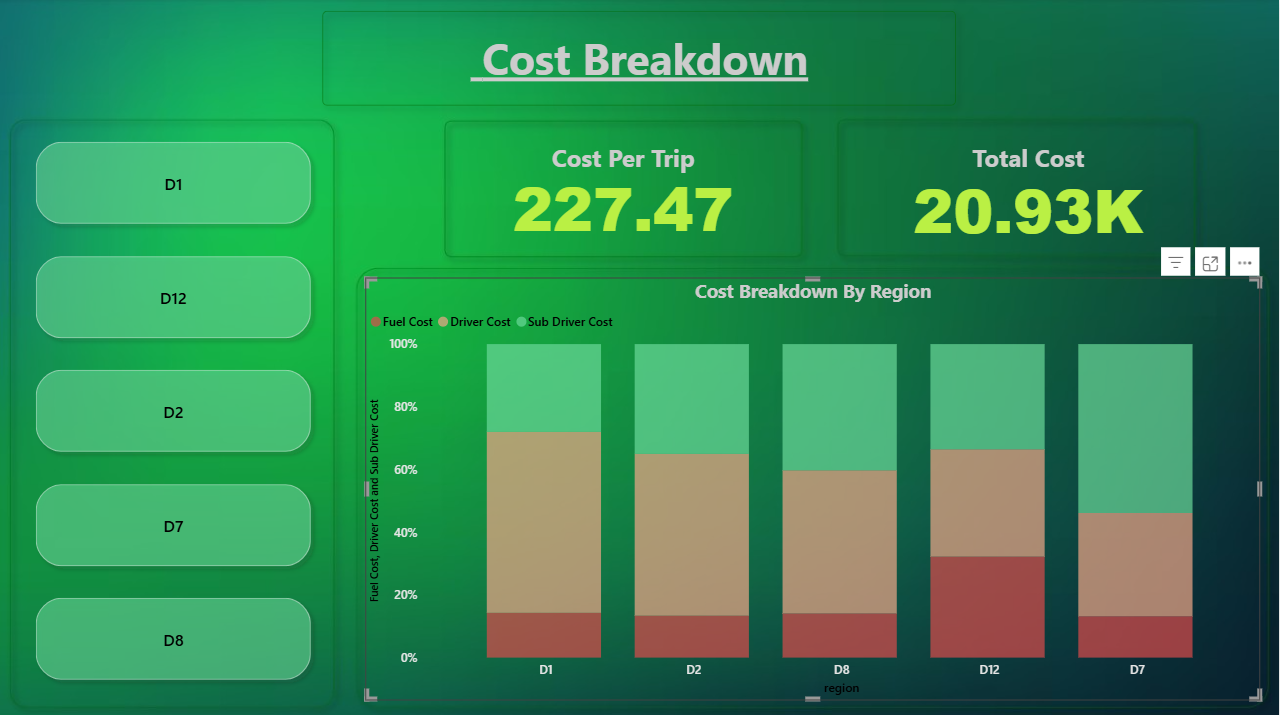

This screenshot's page, from the dashboard's own definition file:
{"tool":"powerbi","page":{"name":"Page 5","canvas":[1280,720],"ordinal":4},"visuals":[{"type":"advancedSlicerVisual","fields":{"Values":["ops v_routes_enriched_costs.region"]},"box":[19.6,125.2,309.2,575.5],"z":0},{"type":"card","title":"Cost Per Trip","fields":{"Values":["Date.Avg Cost / Trip €"]},"box":[455.2,141.1,338.7,95.7],"z":1000},{"type":"card","title":"Total Cost","fields":{"Values":["Sum(ops v_routes_enriched_costs.total_cost_eur)"]},"box":[898.2,141.1,261.4,99.4],"z":2000},{"type":"hundredPercentStackedColumnChart","title":"Cost Breakdown By Region","fields":{"Category":["ops v_routes_enriched_costs.region"],"Y":["Sum(ops v_routes_enriched_costs.fuel_cost_eur)","Sum(ops v_routes_enriched_costs.driver_cost_eur)","Date.Sub Cost (Base+Km+Pen) €"]},"box":[365.6,277.3,895.7,423.3],"z":3000},{"type":"textbox","box":[461.4,23.3,358.3,71.2],"z":4000},{"type":"shape","box":[312.9,0,655.2,116.6],"z":5000}]}

Visuals, with their boxes in screenshot pixels (x1, y1, x2, y2), scaled from the page's 1280x720 canvas onto the 1280x715 screenshot:
advancedSlicerVisual - ops v_routes_enriched_costs.region: <box>20,124,329,696</box>
"Cost Per Trip" card: <box>455,140,794,235</box>
"Total Cost" card: <box>898,140,1160,239</box>
"Cost Breakdown By Region" hundredPercentStackedColumnChart: <box>366,275,1261,696</box>
textbox: <box>461,23,820,94</box>
shape: <box>313,0,968,116</box>
